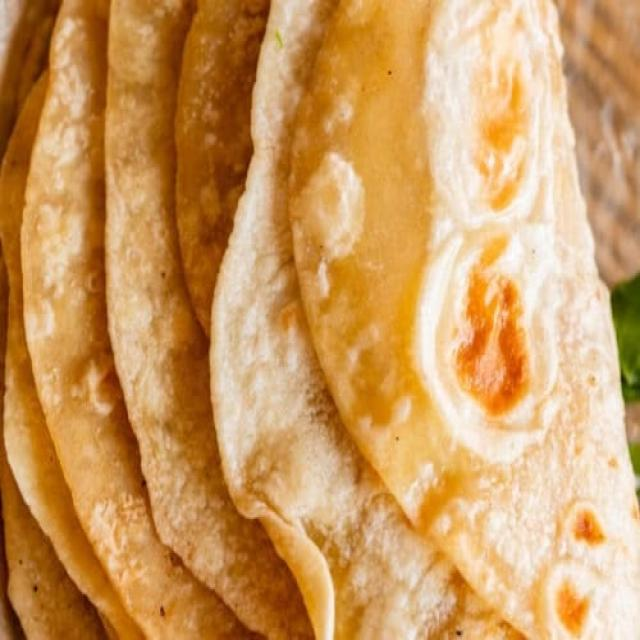ROTI: (291, 10, 638, 635), (213, 0, 529, 638), (24, 4, 231, 638), (107, 4, 312, 638), (176, 0, 278, 336)
